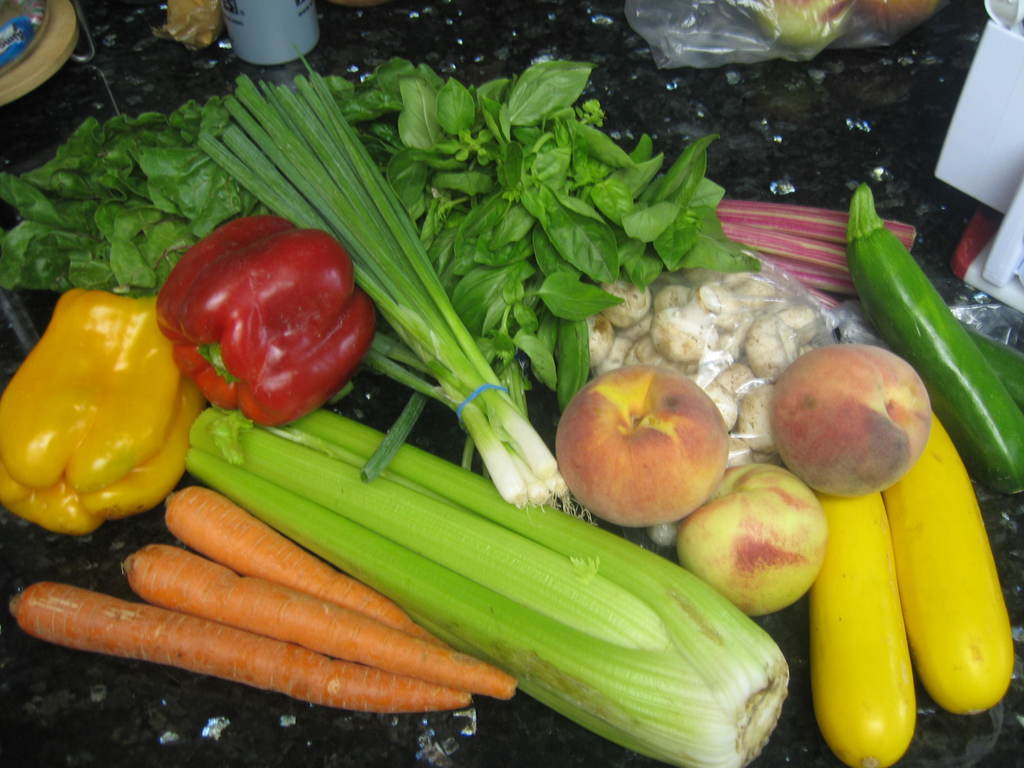Apple: (567, 377, 748, 545), (773, 343, 931, 501), (676, 463, 828, 620)
